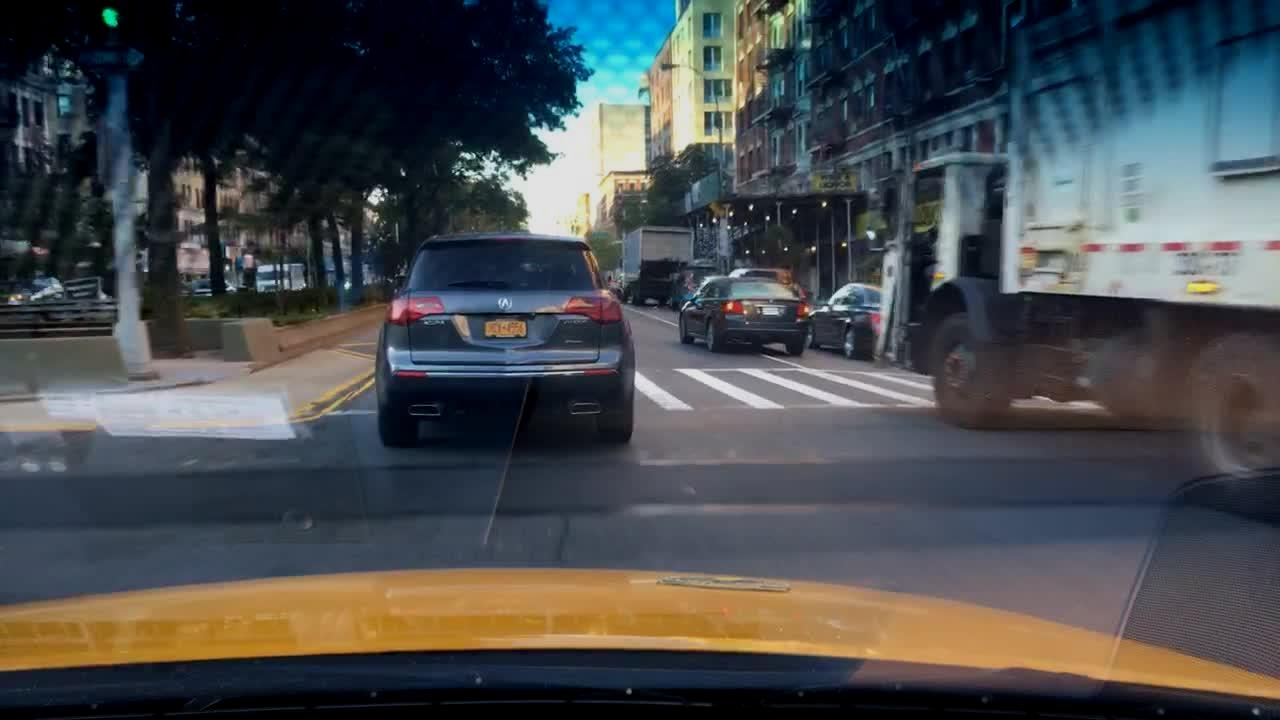acura: (496, 292, 513, 314)
